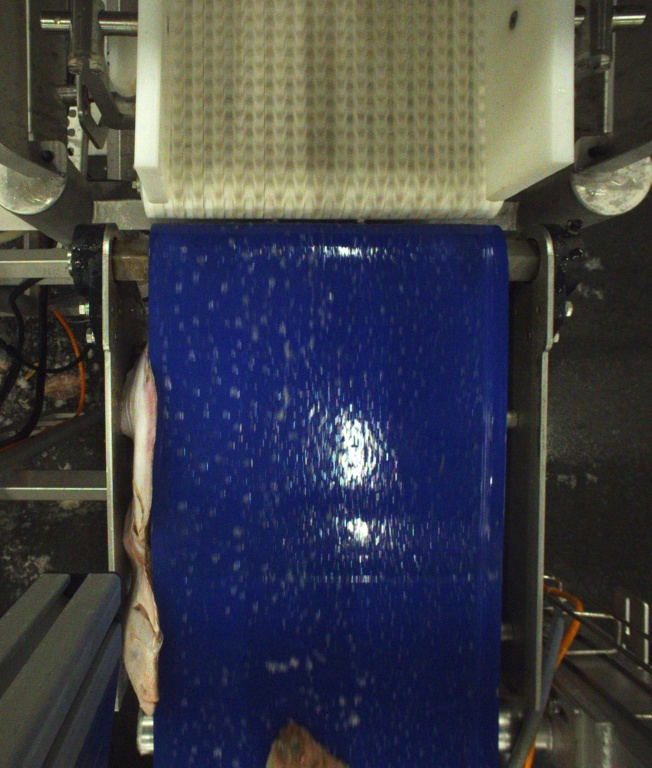WIT: (257, 718, 355, 768)
